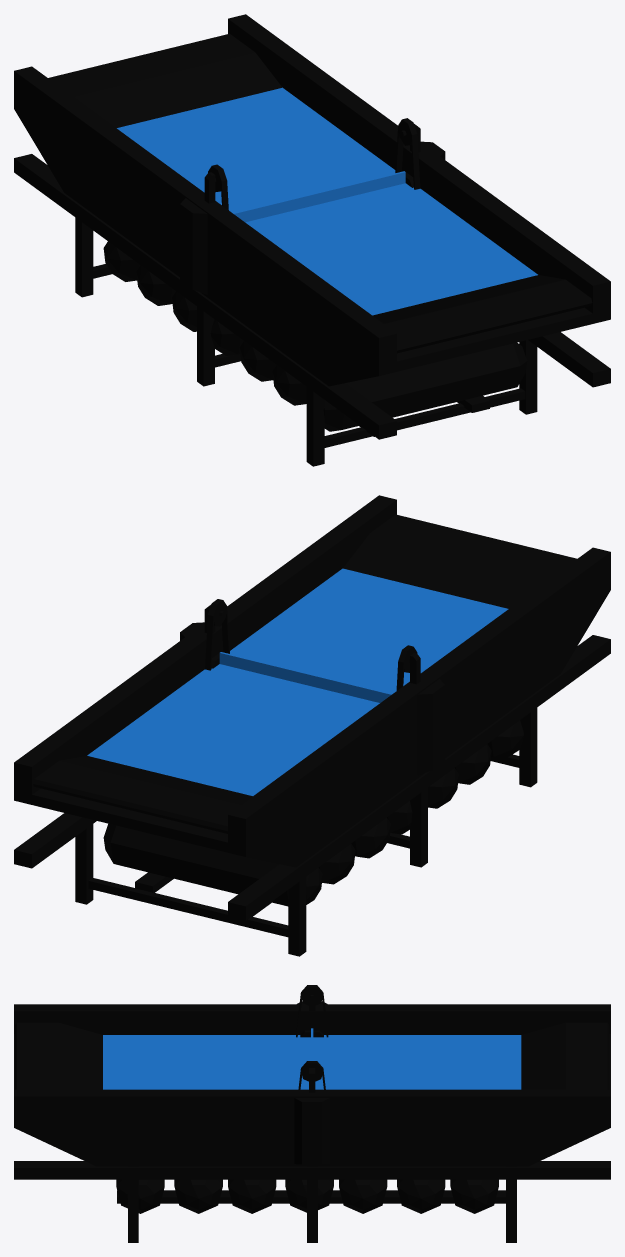
Rendered from SM_conveyor2.fbx.
3 views of the same model, one above another, from view 1: azimuth 30°, elevation 25°; view 2: azimuth 150°, elevation 25°; view 3: azimuth 270°, elevation 25° (orthographic). The views are drawn at different scales.
Visible parts, largest first — view 1: conveyor2, Cube_1; view 2: conveyor2, Cube_1; view 3: conveyor2.
Boxes of the visible parts, x1,y1,x2,y2 form: conveyor2: (14, 14, 610, 466); Cube_1: (232, 171, 405, 222); conveyor2: (14, 495, 610, 956); Cube_1: (219, 652, 392, 702); conveyor2: (14, 985, 610, 1242).
Bounding box in the file's own units: 120 × 96.46 × 300.
